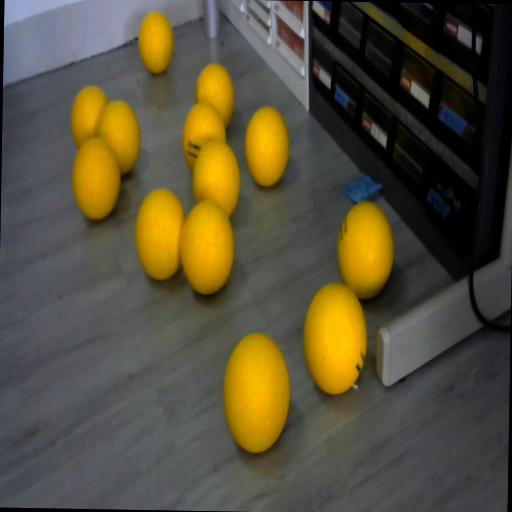FUEL: (222, 332, 292, 453), (302, 280, 368, 394), (336, 200, 395, 300), (178, 198, 235, 294), (133, 186, 186, 280), (71, 136, 122, 222), (191, 140, 242, 218), (244, 106, 291, 186), (194, 62, 236, 128), (70, 85, 110, 149), (138, 10, 174, 74), (440, 83, 468, 120)
